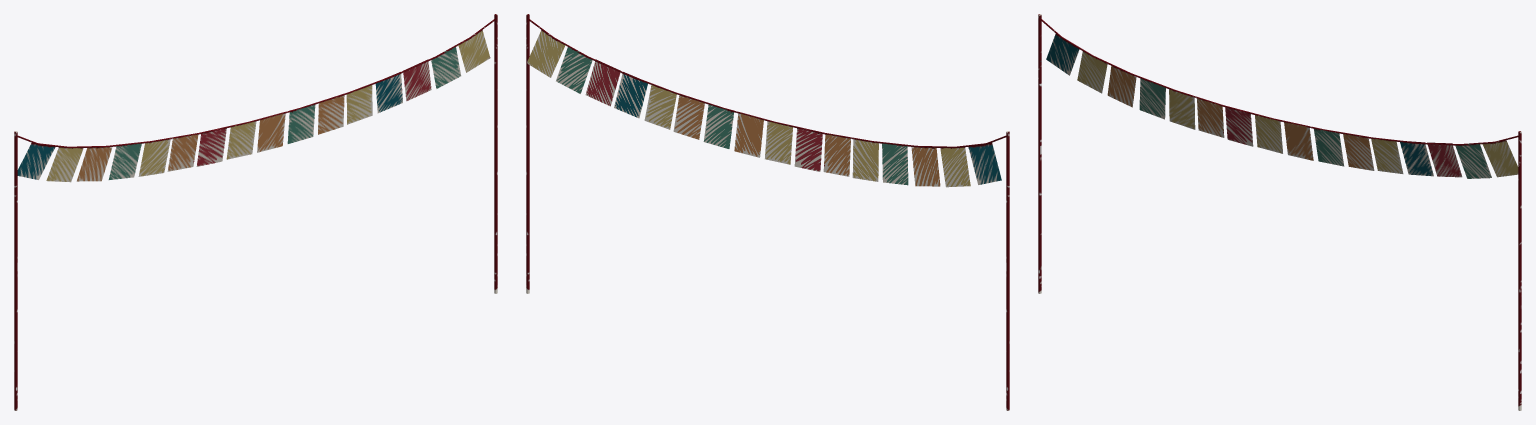
File: flag_2024.glb
3 renders of one model, left to right at view 1: azimuth 30°, elevation 25°; view 2: azimuth 150°, elevation 25°; view 3: azimuth 330°, elevation 25°, orthographic.
Parts seen in each view (by area): view 1: PoterauxDrapeaux; view 2: PoterauxDrapeaux; view 3: PoterauxDrapeaux.
Part boxes in pixels (left/top/right/bottom): PoterauxDrapeaux: left=14, top=14, right=497, bottom=410; PoterauxDrapeaux: left=526, top=14, right=1009, bottom=410; PoterauxDrapeaux: left=1038, top=14, right=1521, bottom=410.
Bounding box in the file's own units: 6.72 × 3.7 × 0.1022.
Materials: 1 (1 with a texture image).
